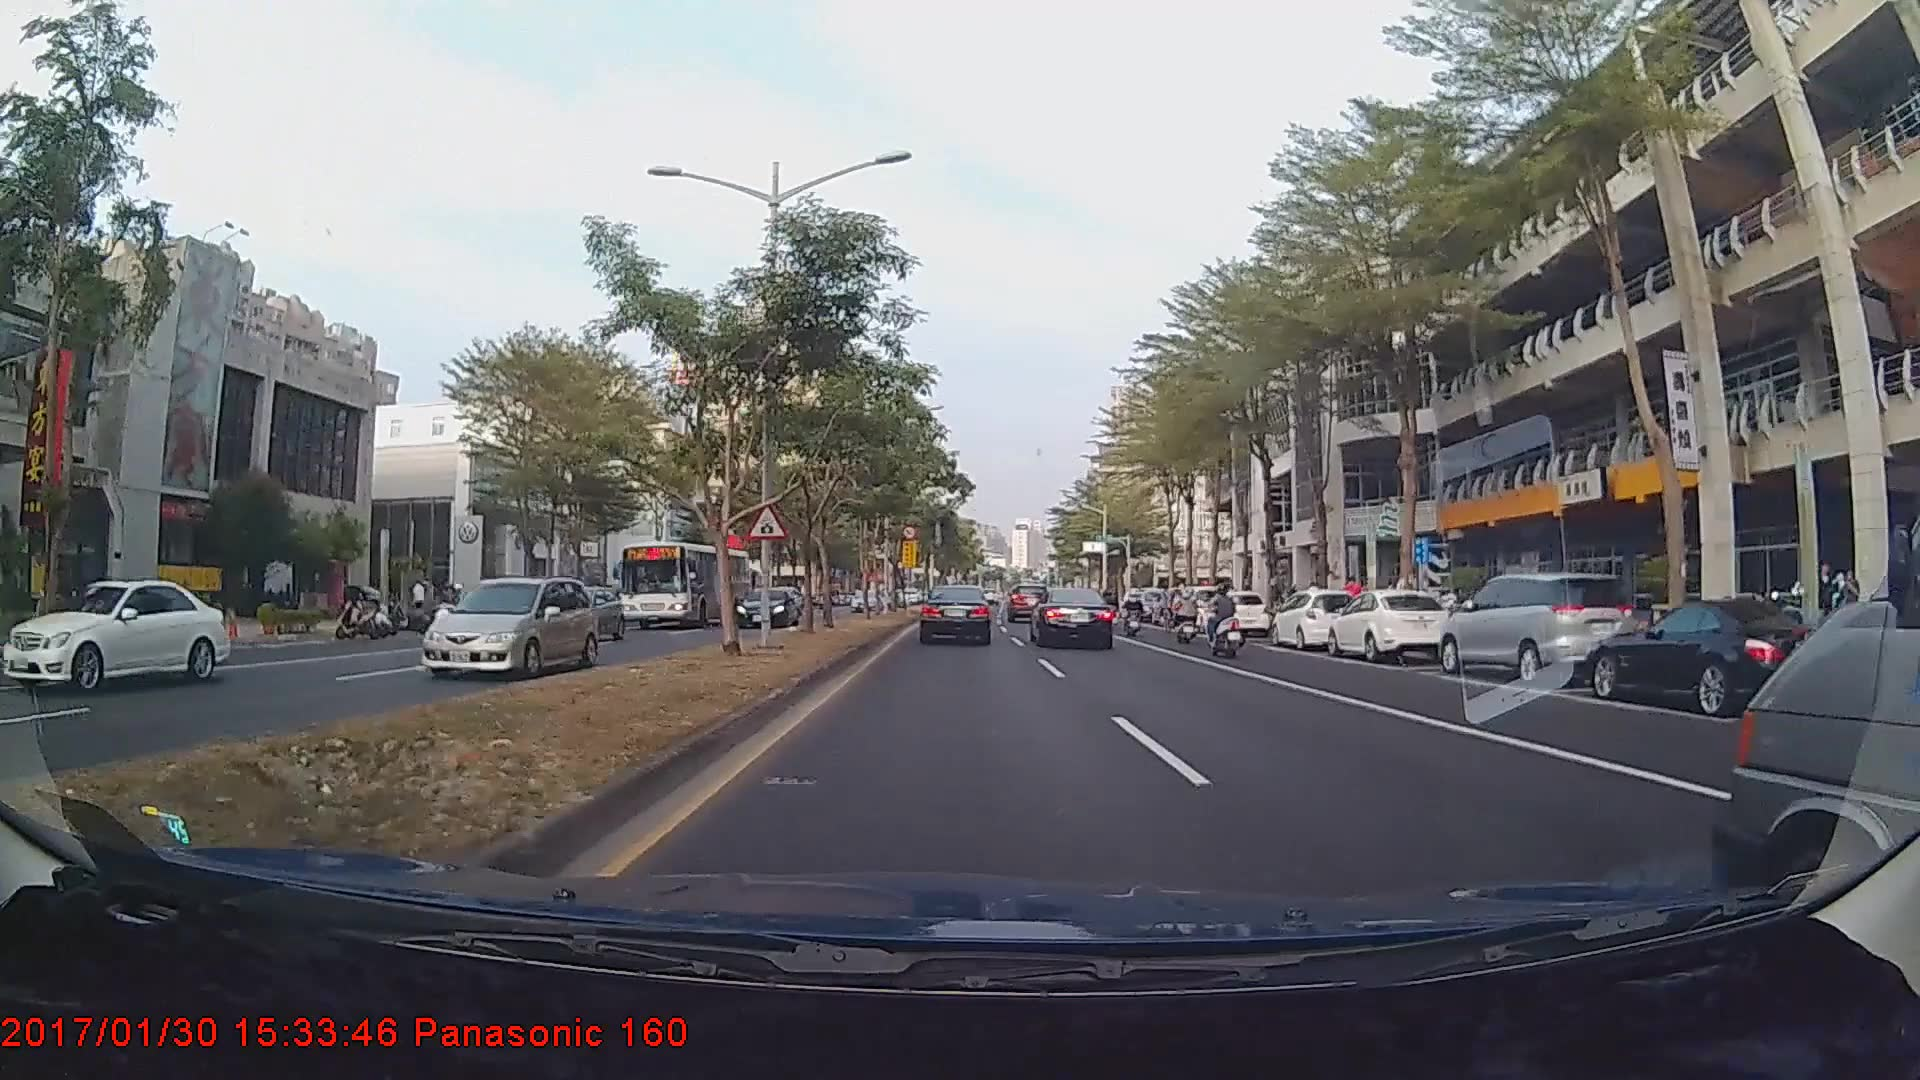rider: (1203, 582, 1252, 660), (1162, 590, 1210, 646), (1120, 586, 1147, 638)
vehicle: (1721, 594, 1916, 885), (1583, 600, 1847, 719), (0, 578, 229, 693), (1436, 569, 1637, 688), (415, 572, 597, 680), (618, 539, 753, 629), (1325, 589, 1451, 662), (1267, 588, 1363, 652), (1033, 587, 1116, 650), (918, 583, 994, 646), (540, 584, 625, 641), (1200, 591, 1269, 637), (734, 585, 800, 627), (1006, 586, 1047, 625)
